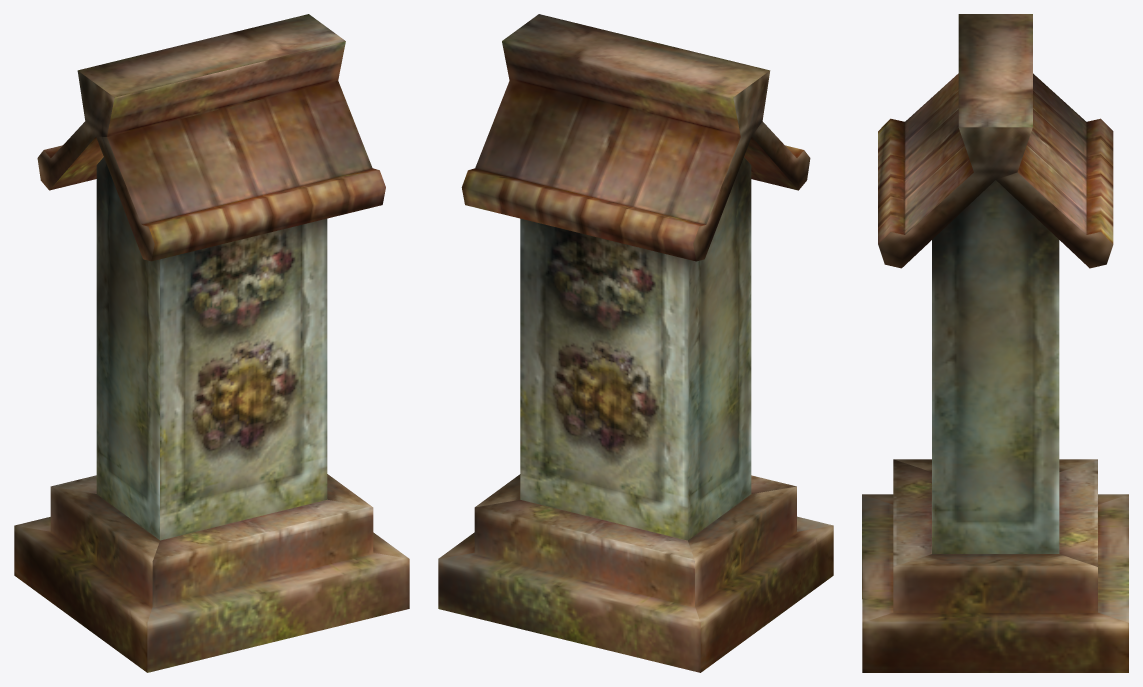
File: a_SWCstomb.glb
3 views of the same model, side by side, from view 1: azimuth 30°, elevation 25°; view 2: azimuth 150°, elevation 25°; view 3: azimuth 270°, elevation 25° (orthographic).
Visible parts, largest first — view 1: a_SWCstomb; view 2: a_SWCstomb; view 3: a_SWCstomb.
Part boxes in pixels (x1,y1,x2,y2): a_SWCstomb: (14, 14, 409, 672); a_SWCstomb: (438, 14, 833, 672); a_SWCstomb: (862, 14, 1128, 672).
Size of the model in its own units: 0.8375 by 1.64 by 0.7357.
Materials: 1 (1 with a texture image).
